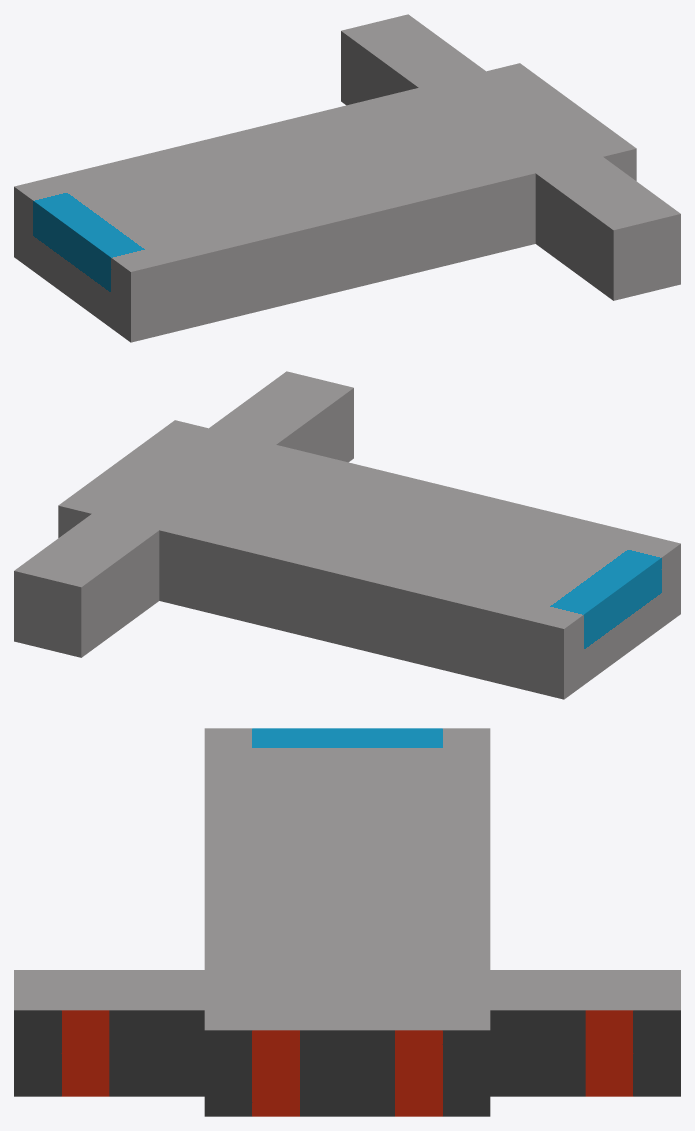
Rendered from ship.gltf.
3 views of the same model, one above another, from view 1: azimuth 30°, elevation 25°; view 2: azimuth 150°, elevation 25°; view 3: azimuth 270°, elevation 25° (orthographic). The views are drawn at different scales.
Parts seen in each view (by area): view 1: body, cube (×4); view 2: body, cube (×4); view 3: body, cube (×4).
Boxes of the visible parts, x1,y1,x2,y2 form: body: (14, 63, 636, 342); cube (×4): (341, 14, 680, 300); body: (58, 420, 680, 699); cube (×4): (14, 371, 353, 657); body: (204, 728, 490, 1116); cube (×4): (14, 970, 680, 1096).
Bounding box in the file's own units: 0.9375 × 0.125 × 0.875.
Materials: 3 (3 with a texture image).
